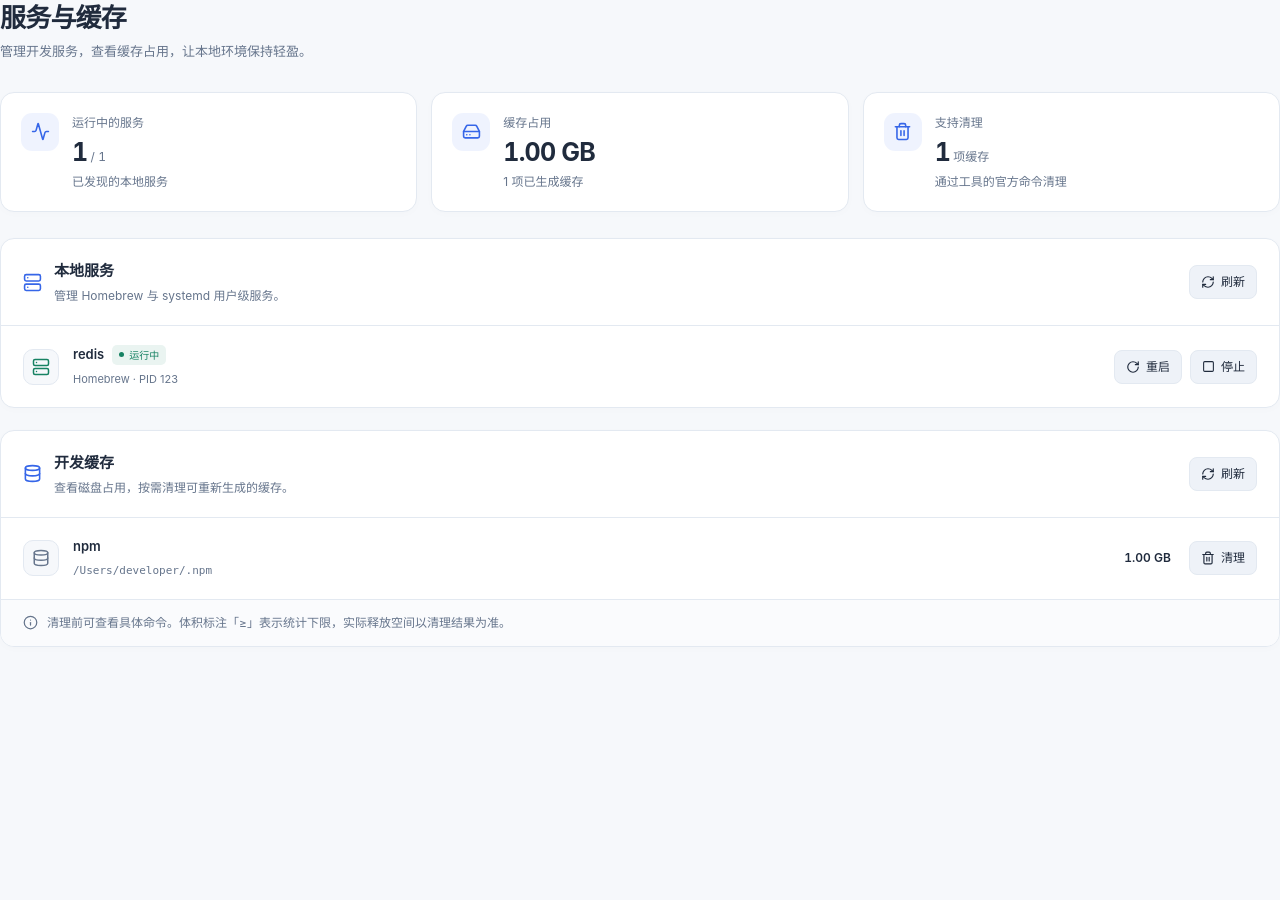
Test: 清理失败保留确认上下文，可以重试并再次提交相同缓存
This screenshot has width=1280, height=900.
Click the button with aria-label "清理 npm 缓存": (1223, 558) [1189, 541, 1257, 575]
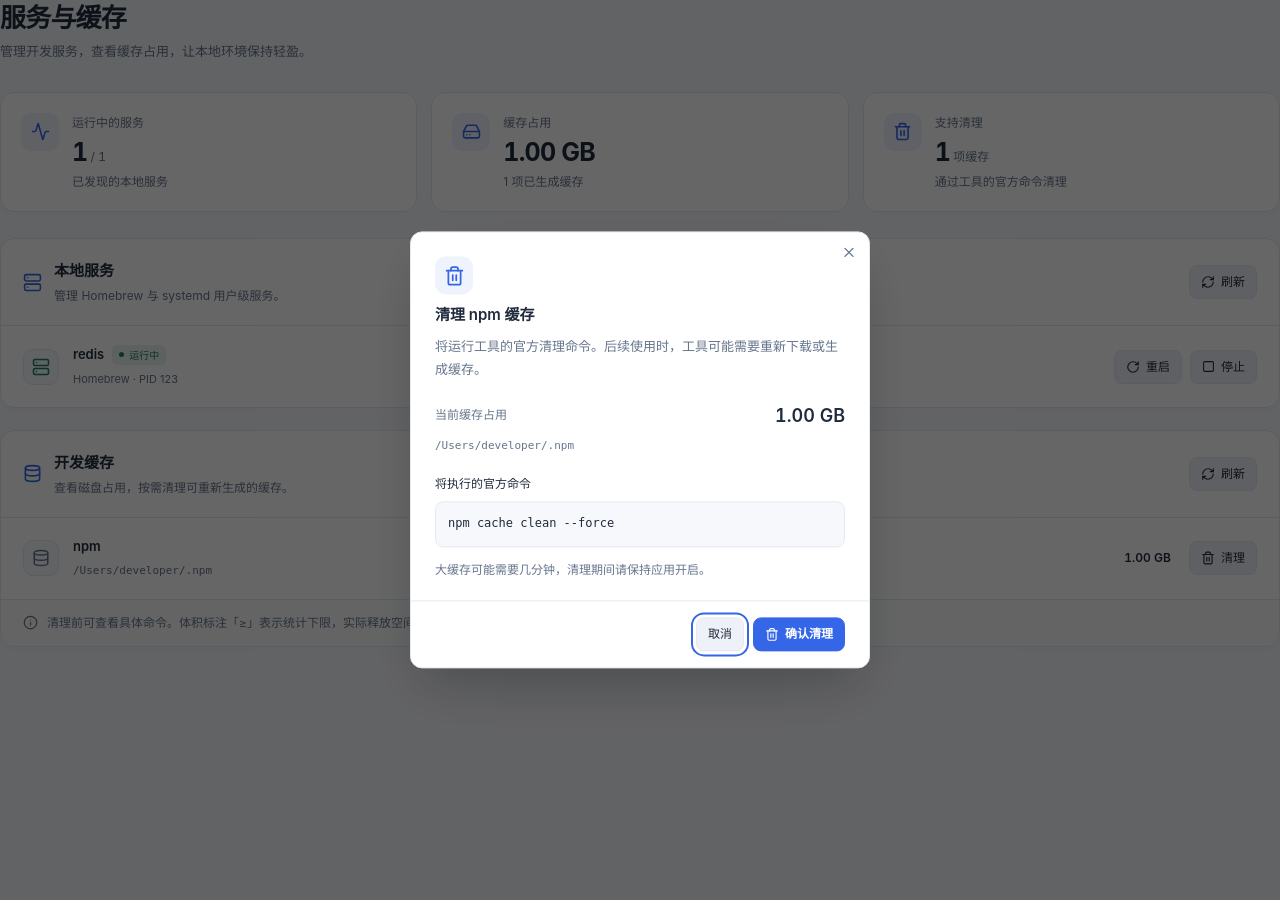
Click the button "确认清理": (799, 635) [753, 618, 845, 652]
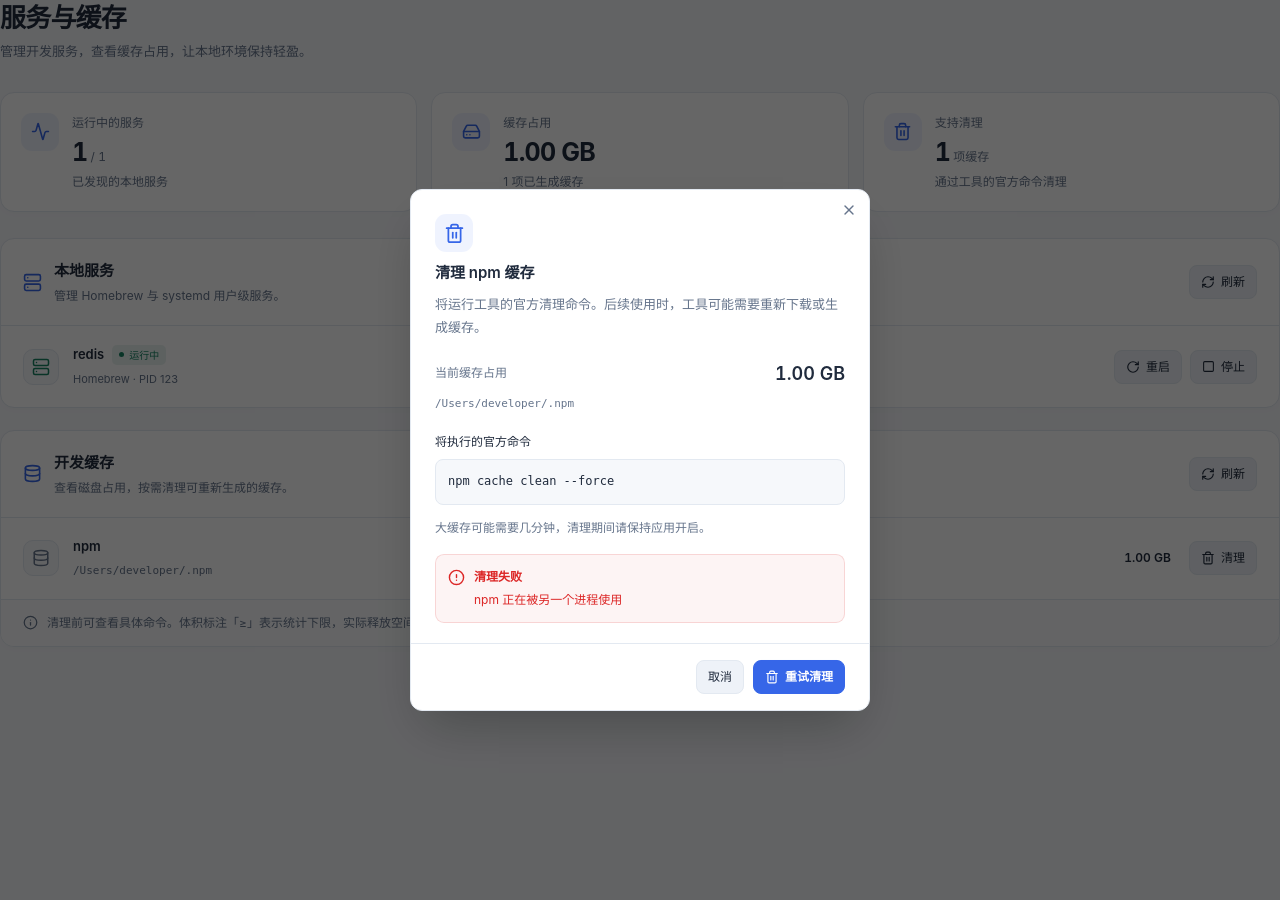
Click the button "重试清理": (799, 677) [753, 660, 845, 694]
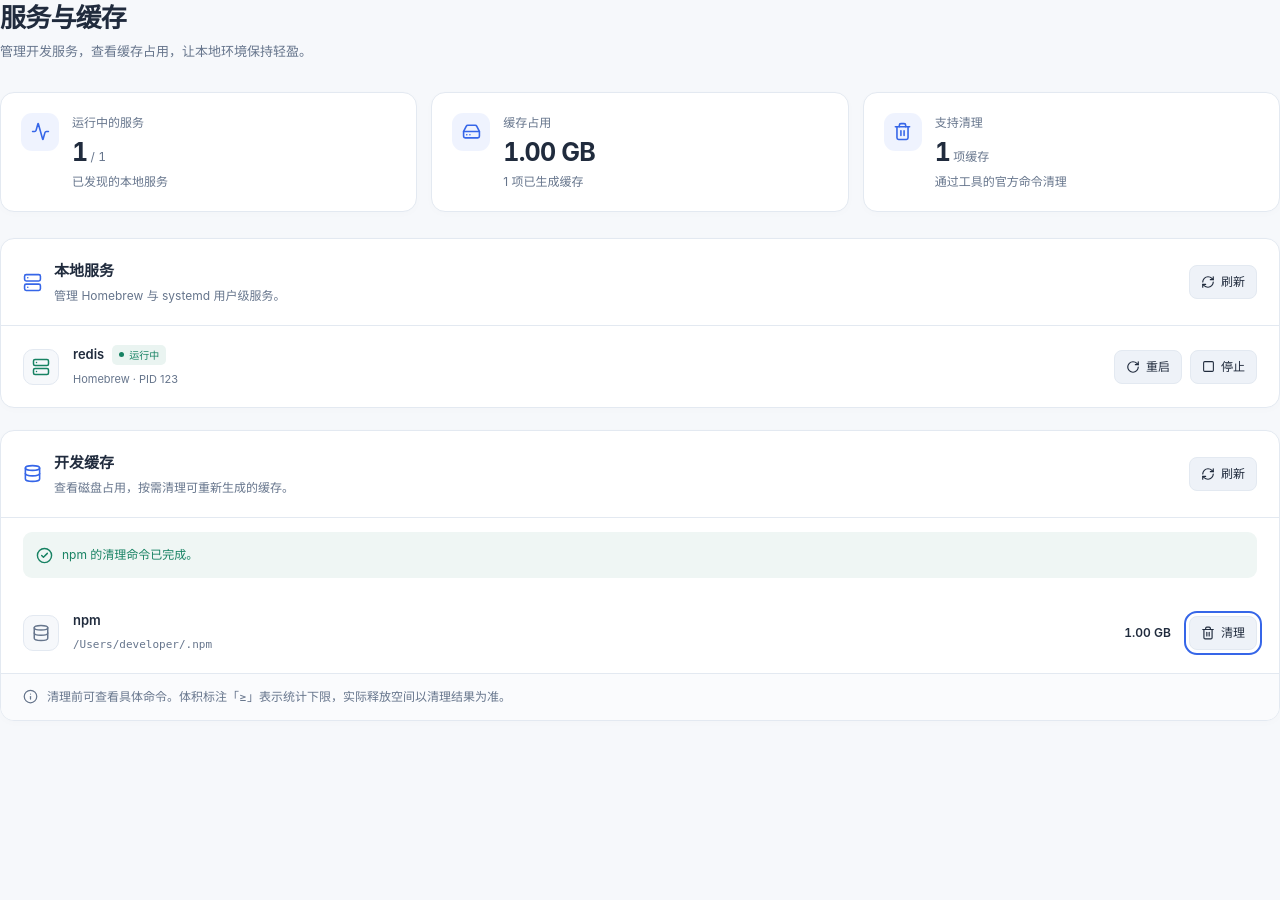
Result: the dialog is gone
